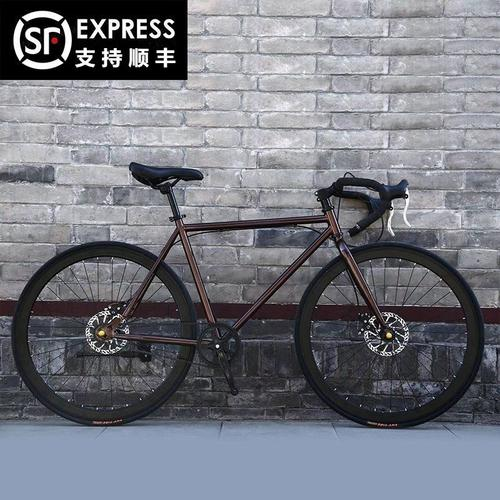单车: (12, 138, 492, 438)
